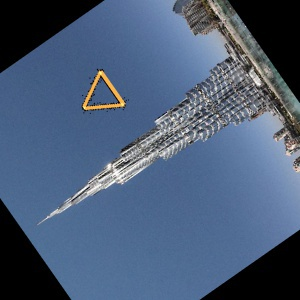triangle: (79, 67, 129, 111)
